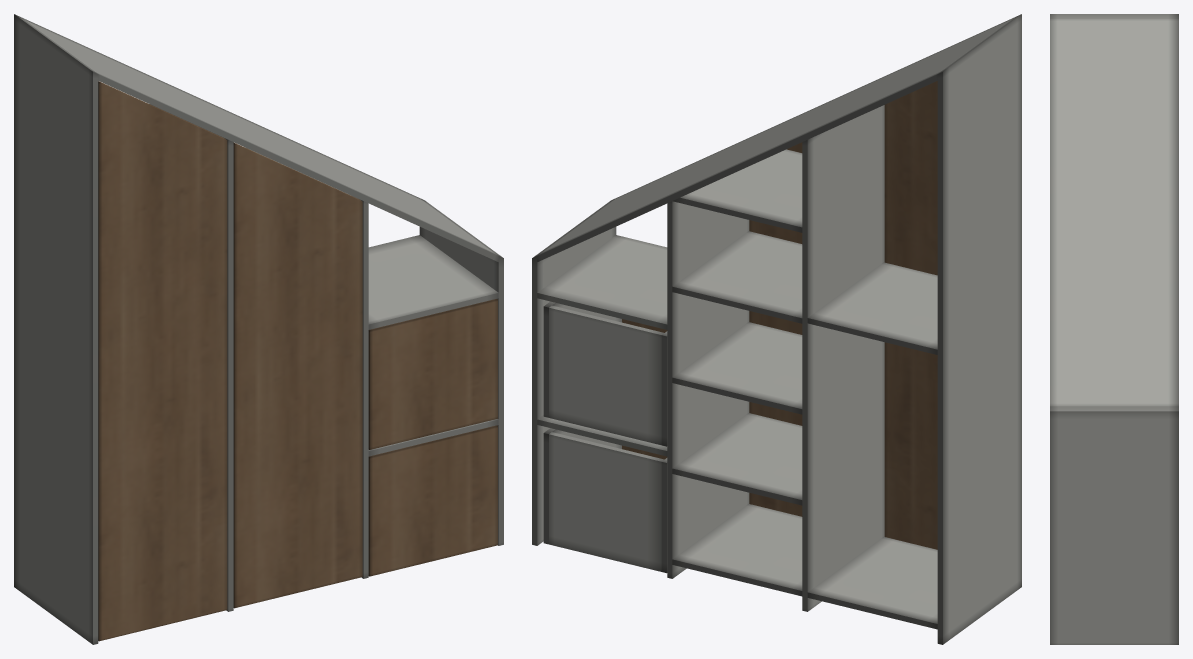
File: meublep.glb
3 views of the same model, side by side, from view 1: azimuth 30°, elevation 25°; view 2: azimuth 150°, elevation 25°; view 3: azimuth 270°, elevation 25° (orthographic). The views are drawn at different scales.
Parts seen in each view (by area): view 1: world; view 2: world; view 3: world.
Boxes of the visible parts, x1,y1,x2,y2 form: world: [14, 14, 503, 644]; world: [532, 14, 1021, 644]; world: [1050, 14, 1178, 644].
Size of the model in its own units: 1.5 by 2 by 0.5.
Materials: 1 (1 with a texture image).
